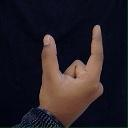hand: (38, 24, 104, 127)
